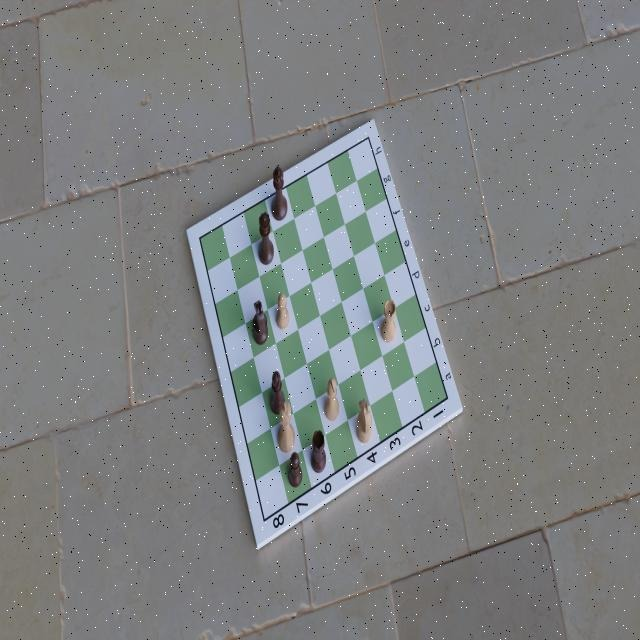black-bishop: (270, 366, 286, 414)
black-king: (269, 164, 289, 223)
black-knight: (250, 296, 270, 347)
black-pawn: (287, 446, 305, 490)
black-queen: (256, 208, 275, 268)
black-rook: (310, 428, 328, 476)
white-bishop: (324, 372, 340, 423)
white-king: (278, 397, 298, 454)
white-knight: (354, 394, 373, 443)
white-pawn: (273, 291, 292, 331)
white-rook: (381, 297, 399, 346)
